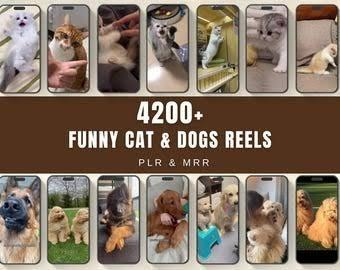adult_dog: (0, 8, 39, 89), (147, 190, 188, 263), (98, 183, 138, 255), (0, 196, 40, 264), (249, 10, 287, 75), (248, 199, 286, 264), (307, 197, 338, 251), (208, 183, 238, 236), (298, 42, 337, 76), (296, 188, 316, 242), (15, 185, 38, 223)
non-dog: (49, 12, 88, 72), (151, 20, 185, 65), (201, 21, 228, 69)
puppy-dog: (98, 22, 135, 66), (48, 205, 72, 246), (197, 196, 218, 231), (73, 206, 90, 248)
